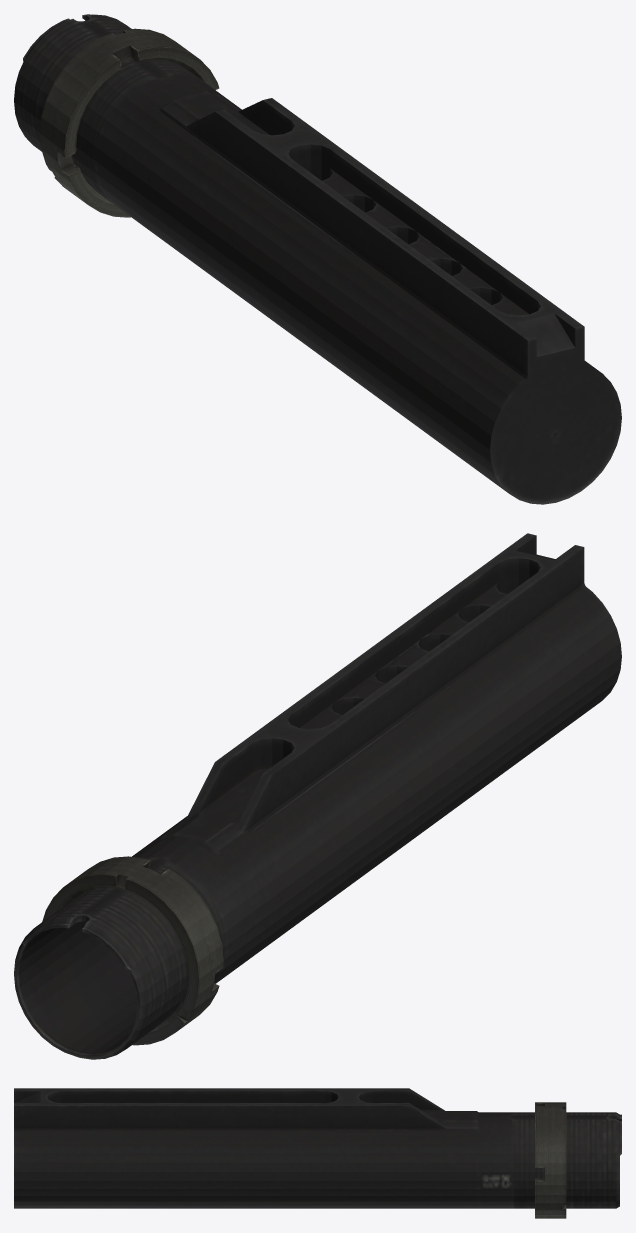
3 renders of one model, top to bottom at view 1: azimuth 30°, elevation 25°; view 2: azimuth 150°, elevation 25°; view 3: azimuth 270°, elevation 25°, orthographic. The views are drawn at different scales.
Visible parts, largest first — view 1: TW_638de3603a1a4031d8260b8c_PZ_Import; view 2: TW_638de3603a1a4031d8260b8c_PZ_Import; view 3: TW_638de3603a1a4031d8260b8c_PZ_Import.
Part boxes in pixels (box(x1,y1,x2,y2)): TW_638de3603a1a4031d8260b8c_PZ_Import: box(14, 14, 621, 504); TW_638de3603a1a4031d8260b8c_PZ_Import: box(14, 533, 621, 1059); TW_638de3603a1a4031d8260b8c_PZ_Import: box(14, 1088, 621, 1218).
Bounding box in the file's own units: 0.0202 × 0.1058 × 0.0223.
1 material, 1 textured.
